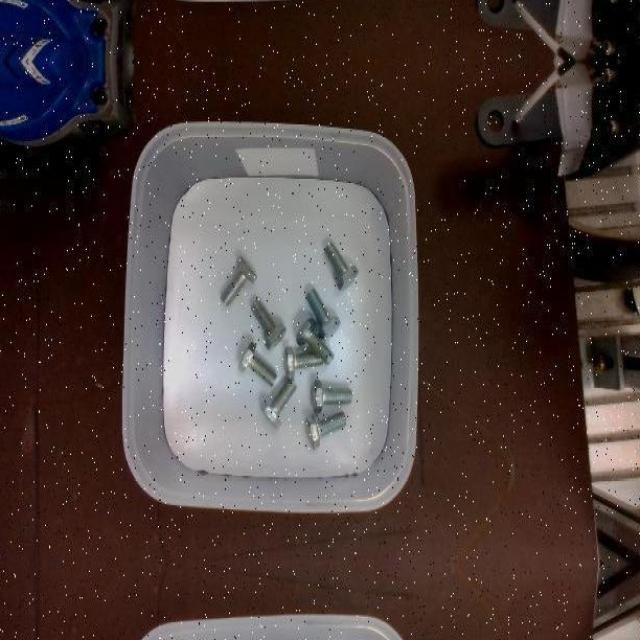screw: (260, 378, 297, 430), (251, 297, 287, 350), (306, 288, 342, 340), (296, 317, 335, 364), (221, 256, 257, 306), (239, 340, 278, 386), (324, 241, 359, 289), (306, 410, 348, 448), (310, 378, 352, 414)
